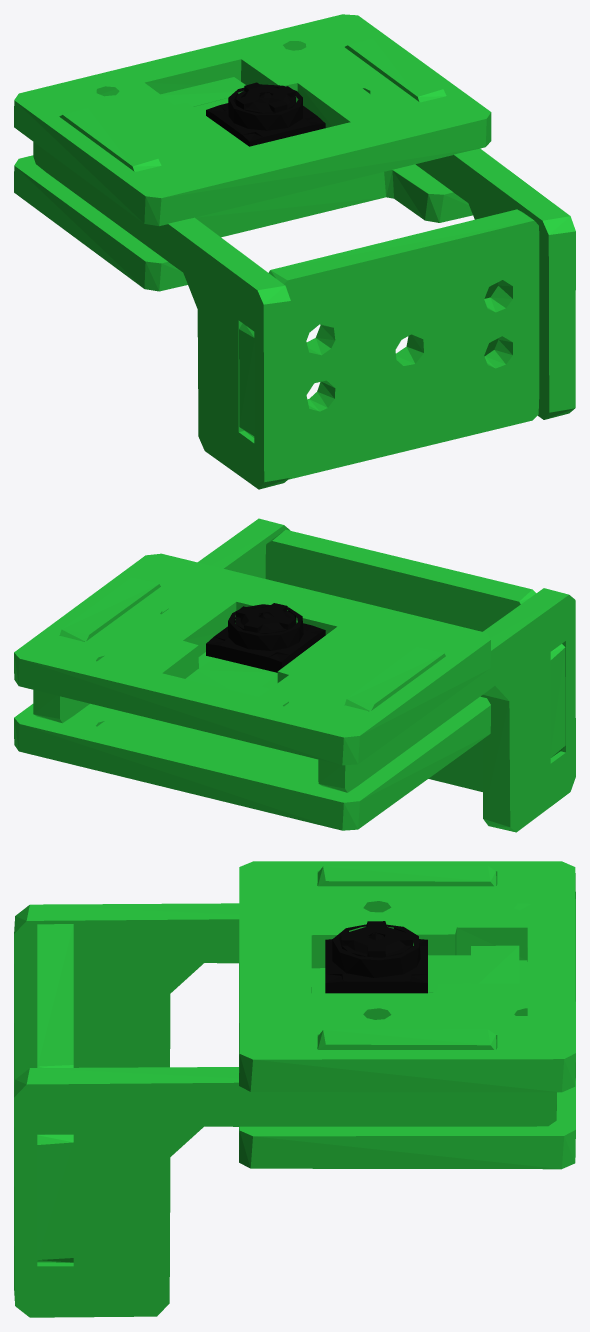
The model's file is camera.dae.
3 renders of one model, top to bottom at view 1: azimuth 30°, elevation 25°; view 2: azimuth 150°, elevation 25°; view 3: azimuth 270°, elevation 25°, orthographic. The views are drawn at different scales.
Visible parts, largest first — view 1: camera; view 2: camera; view 3: camera.
Boxes of the visible parts, bbox=[...] form: camera: bbox=[14, 14, 575, 489]; camera: bbox=[14, 518, 575, 832]; camera: bbox=[14, 861, 575, 1317].
Size of the model in its own units: 0.0388 by 0.0465 by 0.027.
